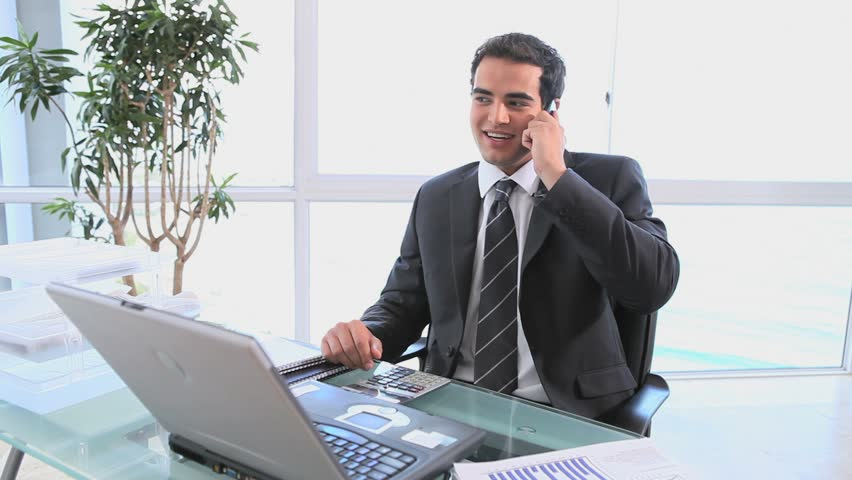phone: (525, 90, 565, 155)
talk: (463, 76, 580, 176)
